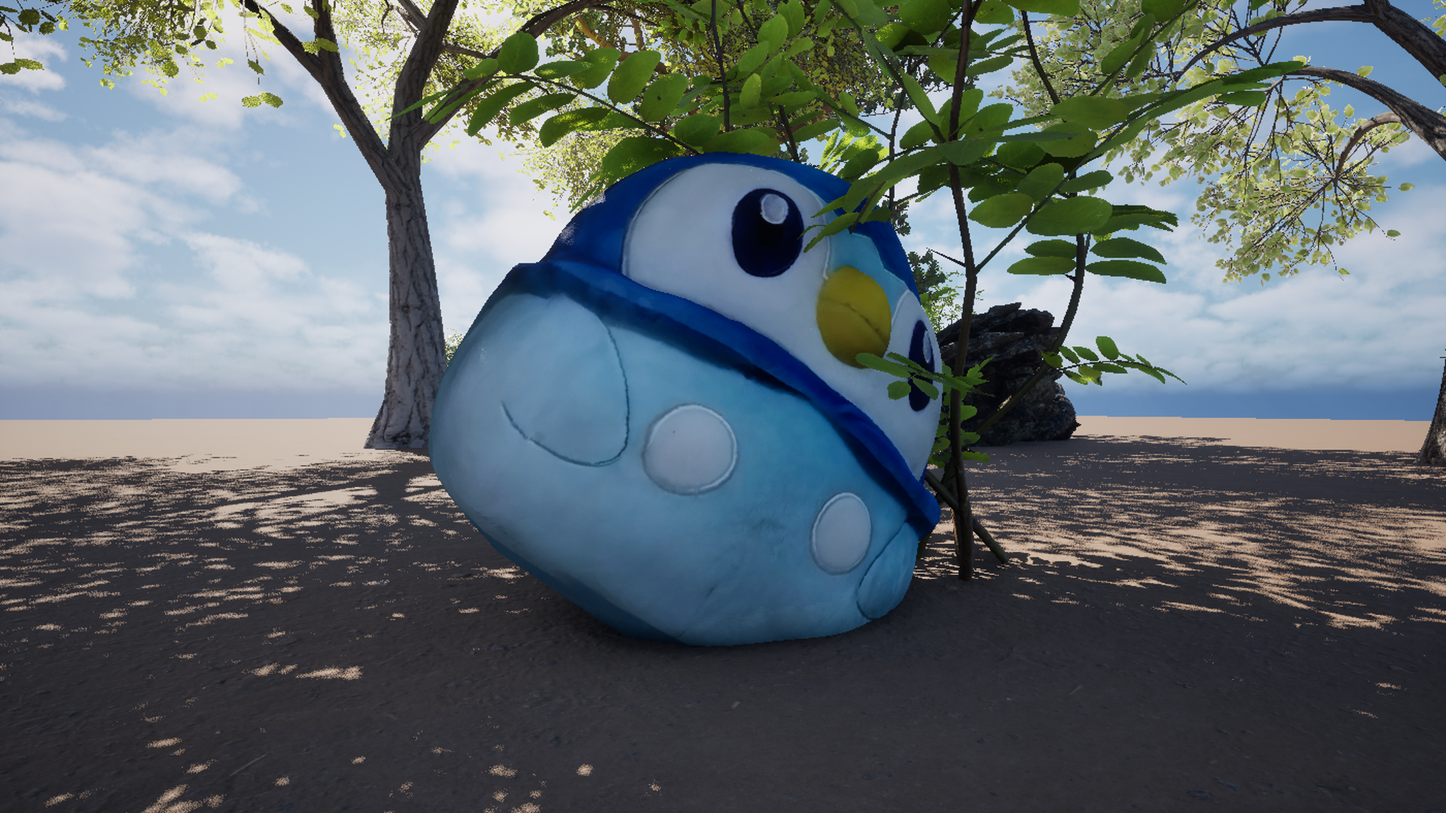Piplup: (340, 0, 1143, 813)
